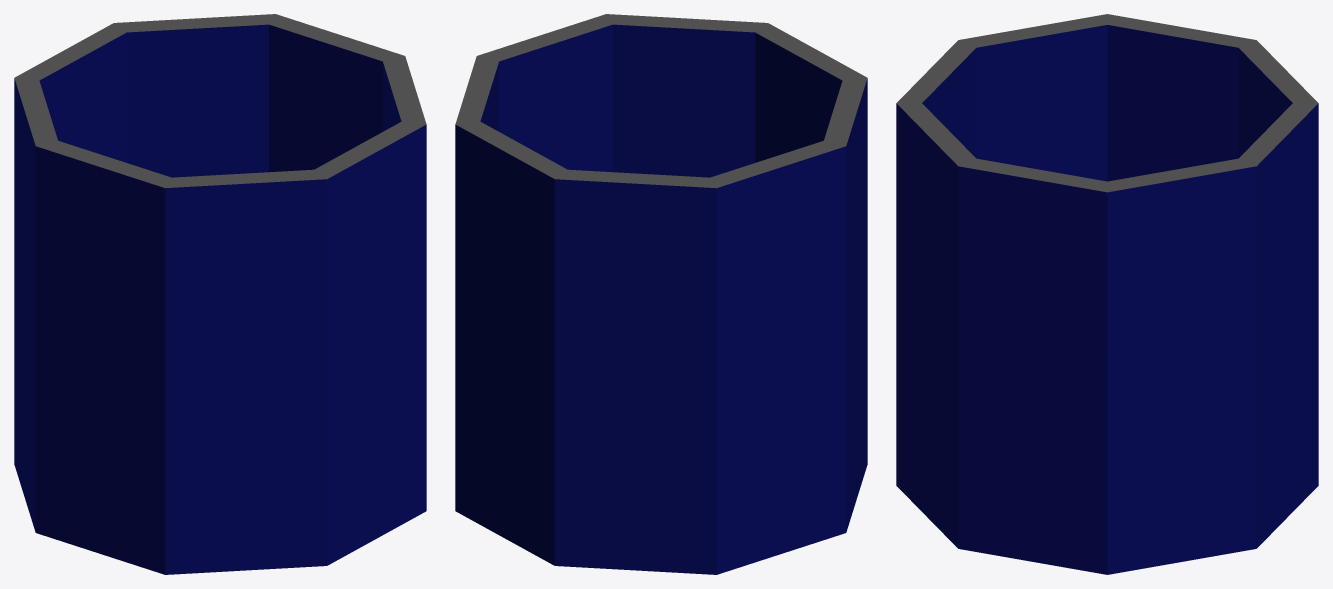
Rendered from GarbgeCan.fbx.
The picture shows the model from 3 angles, left to right: view 1: azimuth 30°, elevation 25°; view 2: azimuth 150°, elevation 25°; view 3: azimuth 270°, elevation 25°; orthographic projection.
Parts seen in each view (by area): view 1: Cylinder; view 2: Cylinder; view 3: Cylinder.
Boxes of the visible parts, bbox=[...] form: Cylinder: bbox=[14, 14, 426, 574]; Cylinder: bbox=[455, 14, 867, 574]; Cylinder: bbox=[896, 14, 1318, 574].
Size of the model in its own units: 296 by 296 by 296.
